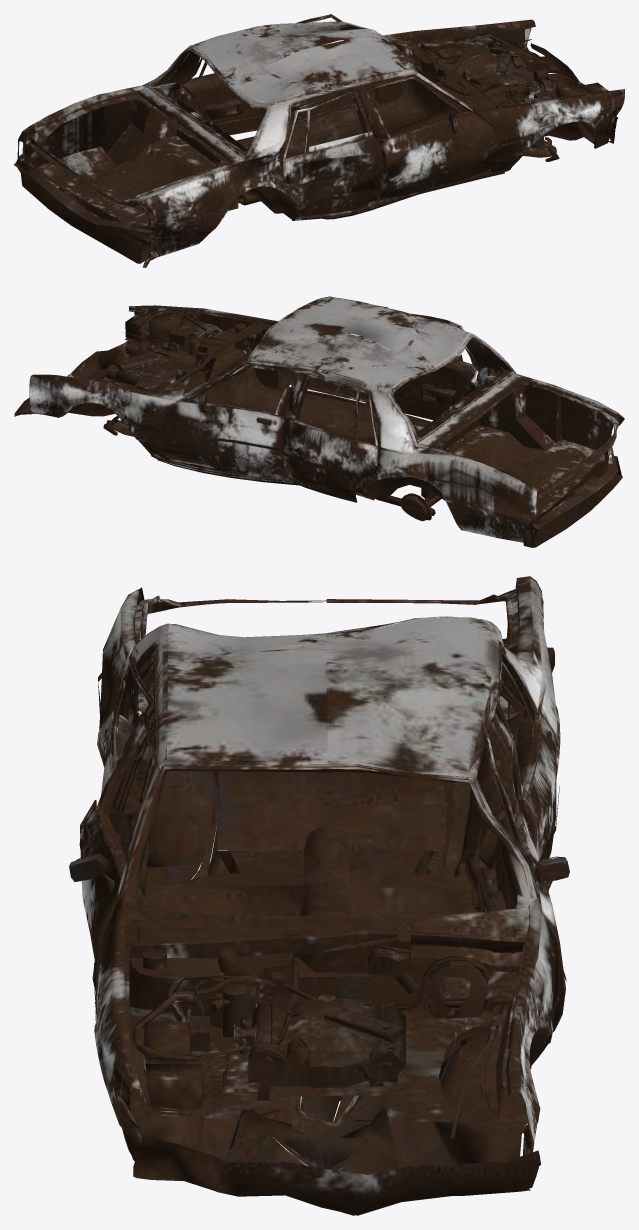
The model's file is junk_car.glb.
The picture shows the model from 3 angles, top to bottom: view 1: azimuth 30°, elevation 25°; view 2: azimuth 150°, elevation 25°; view 3: azimuth 270°, elevation 25°; orthographic projection. The views are drawn at different scales.
Visible parts, largest first — view 1: dock; view 2: dock; view 3: dock.
Part boxes in pixels (x1,y1,x2,y2): dock: (14,14,624,267); dock: (14,296,624,547); dock: (69,576,569,1215).
Bounding box in the file's own units: 4.46 × 1.11 × 1.82.
5 materials, 5 textured.
